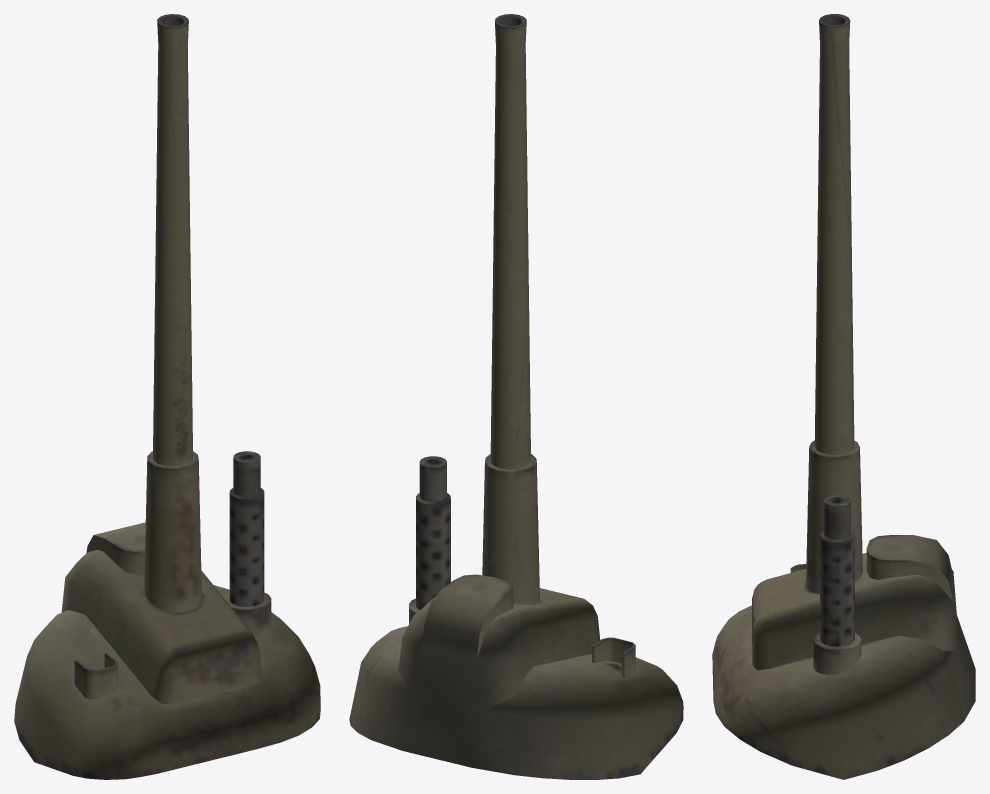
File: Gun_03.glb
3 views of the same model, side by side, from view 1: azimuth 30°, elevation 25°; view 2: azimuth 150°, elevation 25°; view 3: azimuth 270°, elevation 25° (orthographic). The views are drawn at different scales.
Visible parts, largest first — view 1: set_0_group_0; view 2: set_0_group_0; view 3: set_0_group_0.
Boxes of the visible parts, bbox=[...] form: set_0_group_0: bbox=[14, 14, 320, 779]; set_0_group_0: bbox=[349, 14, 683, 779]; set_0_group_0: bbox=[712, 14, 975, 779].
Size of the model in its own units: 0.51 by 1.29 by 0.4421.
1 material, 1 textured.
